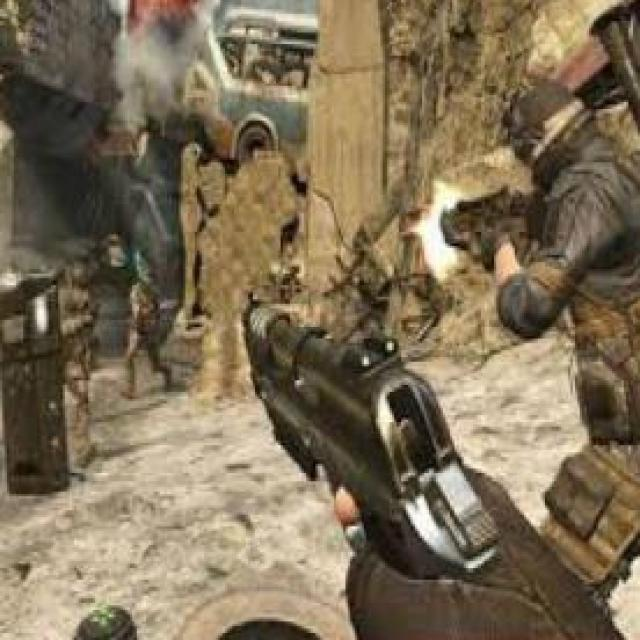pistol: (225, 281, 502, 590)
